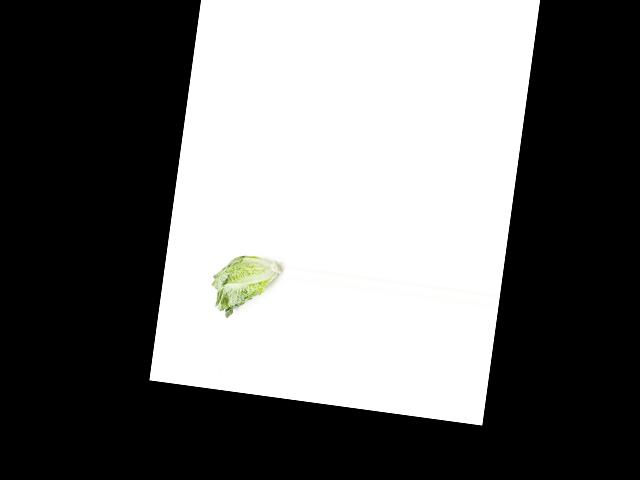lettuce: (204, 248, 281, 323)
